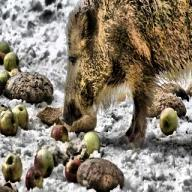boar: (60, 0, 192, 149)
